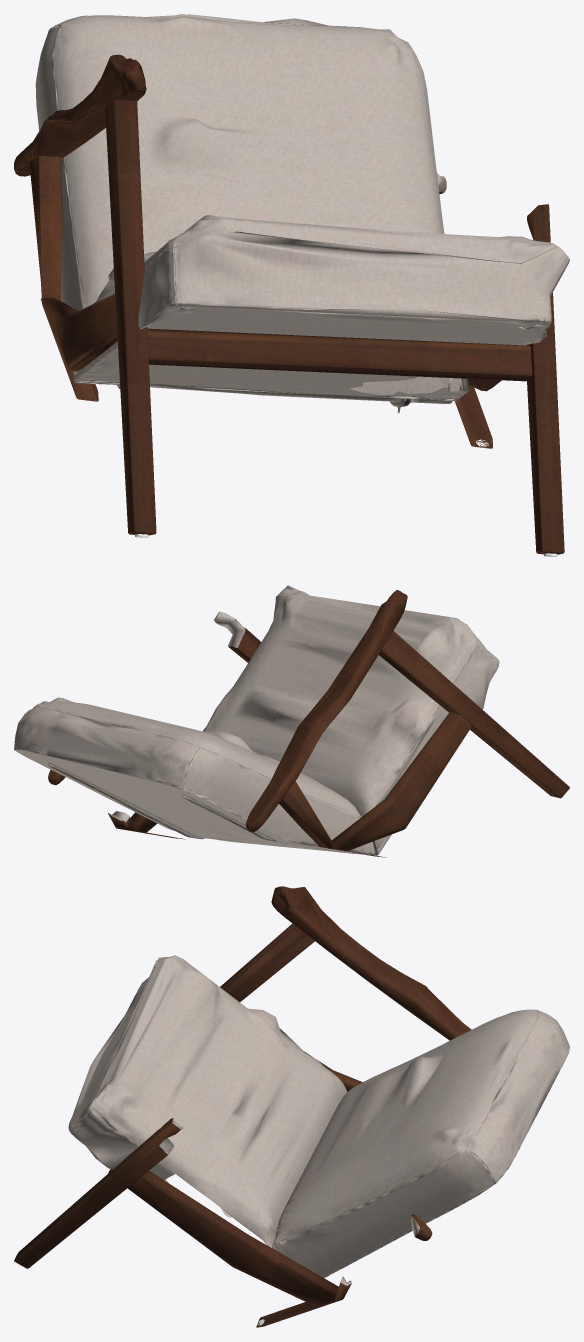
Rendered from furniture.fbx.
The picture shows the model from 3 angles, top to bottom: view 1: azimuth 30°, elevation 25°; view 2: azimuth 150°, elevation 25°; view 3: azimuth 270°, elevation 25°; orthographic projection. The views are drawn at different scales.
Parts seen in each view (by area): view 1: EKENÄSET_505.334.92; view 2: EKENÄSET_505.334.92; view 3: EKENÄSET_505.334.92.
Part boxes in pixels (x1,y1,x2,y2): EKENÄSET_505.334.92: (14, 14, 569, 556); EKENÄSET_505.334.92: (14, 585, 569, 857); EKENÄSET_505.334.92: (14, 886, 569, 1327).
Size of the model in its own units: 187 by 152 by 236.
Materials: 1 (1 with a texture image).
